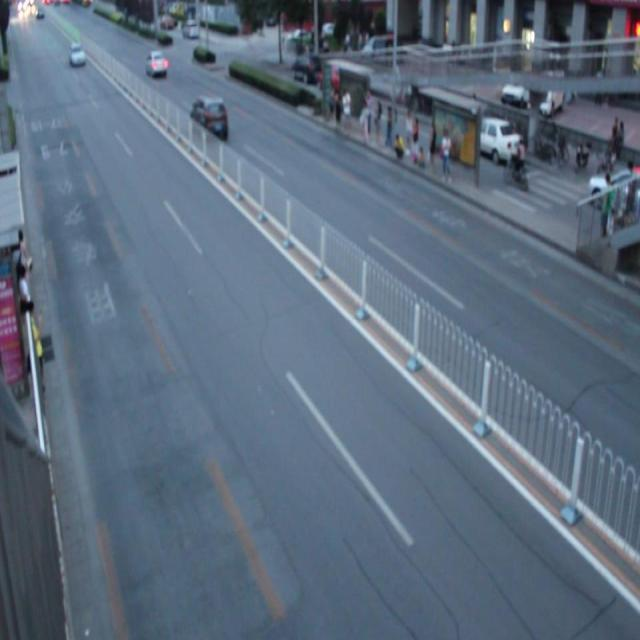car: (189, 94, 228, 146)
